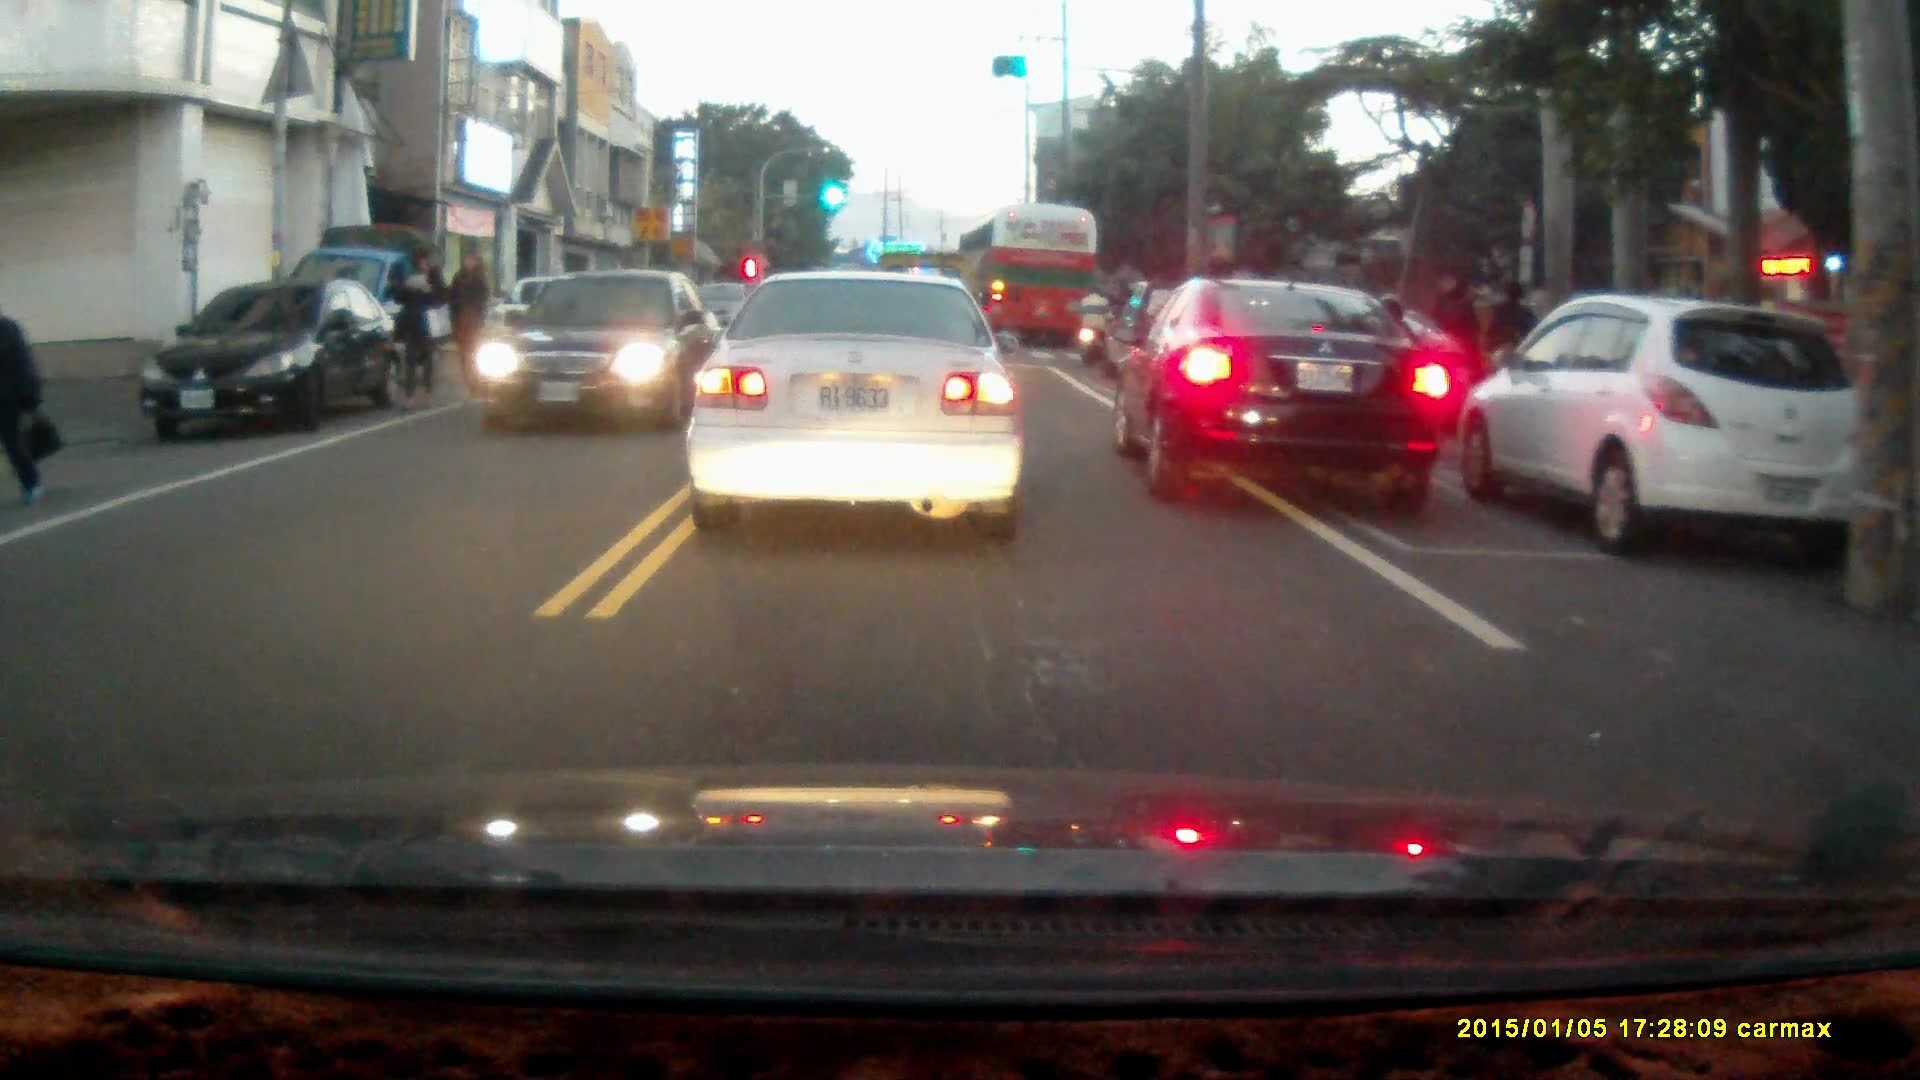pedestrian: (0, 304, 46, 498), (395, 249, 448, 405), (445, 247, 489, 403), (1482, 280, 1529, 404), (1436, 279, 1480, 396)
rider: (1072, 286, 1113, 368)
vehicle: (1449, 290, 1888, 558), (685, 265, 1028, 543), (1128, 279, 1458, 505), (141, 275, 396, 438), (475, 268, 711, 432), (276, 230, 480, 398), (960, 206, 1097, 347)
